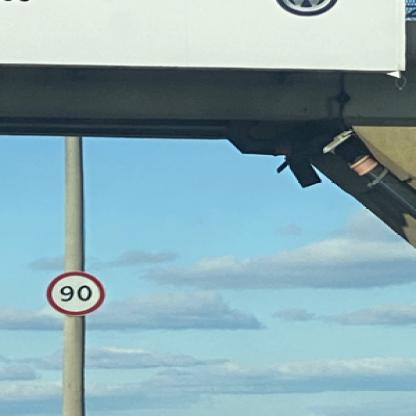Speed Limit 90: (49, 271, 105, 316)
